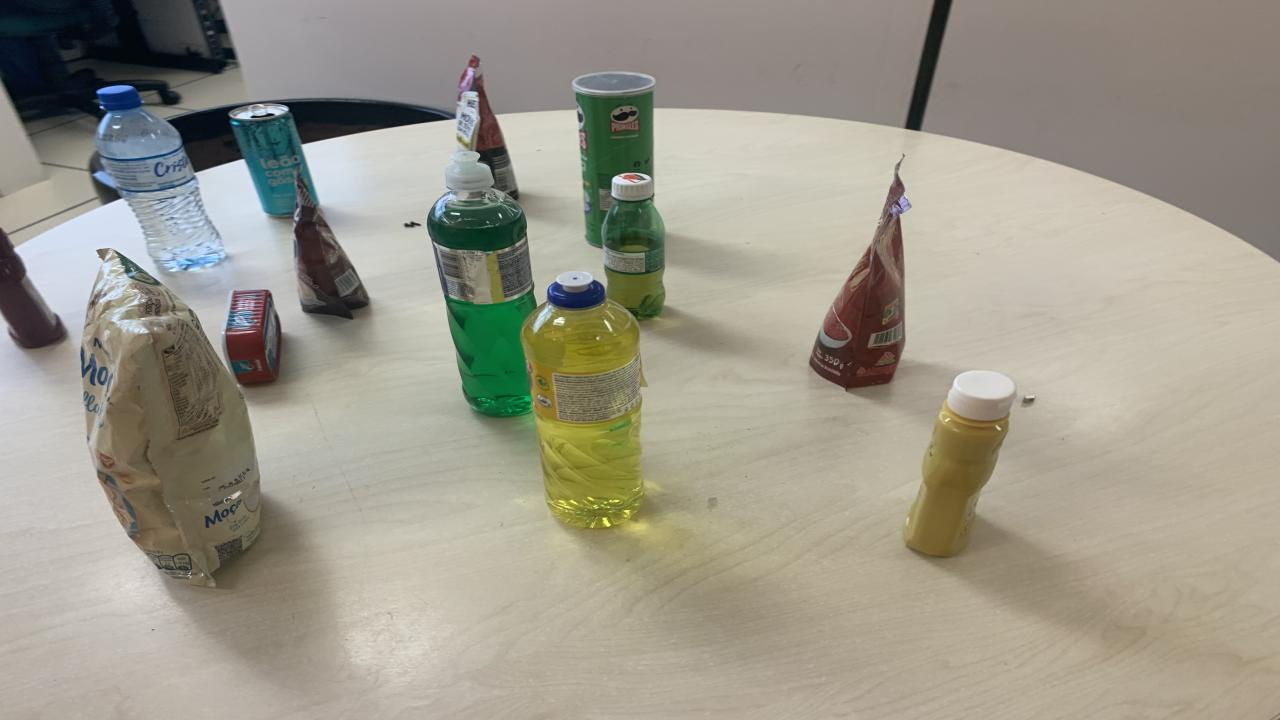Coffee-Pantry_Items: (295, 176, 370, 319)
Detergent-Cleanup_Items: (520, 272, 645, 527), (428, 152, 538, 416)
Flakes-Snacks: (80, 249, 260, 587)
Guarana-Drinks: (602, 172, 665, 319)
Ketchup-Pantry_Items: (0, 229, 65, 349)
Mustard-Pantry_Items: (902, 369, 1015, 557)
Pringles-Snacks: (572, 71, 655, 248)
Tea-Drinks: (230, 103, 315, 216)
Tomato_Sauce-Pantry_Items: (810, 165, 910, 388), (455, 56, 518, 199)
Tuna_Can-Pantry_Items: (222, 291, 280, 384)
Water_Bottle-Drinks: (95, 86, 225, 272)
